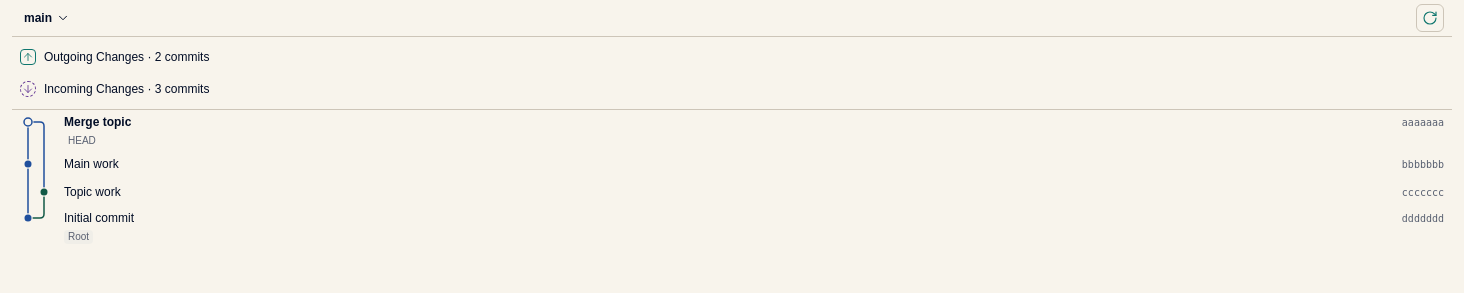
Test: diverged summaries independently open aggregate files and select pinned comparisons
Click the button "Incoming Changes · 3 commits" at (127, 89), box 12,73 -> 1452,105
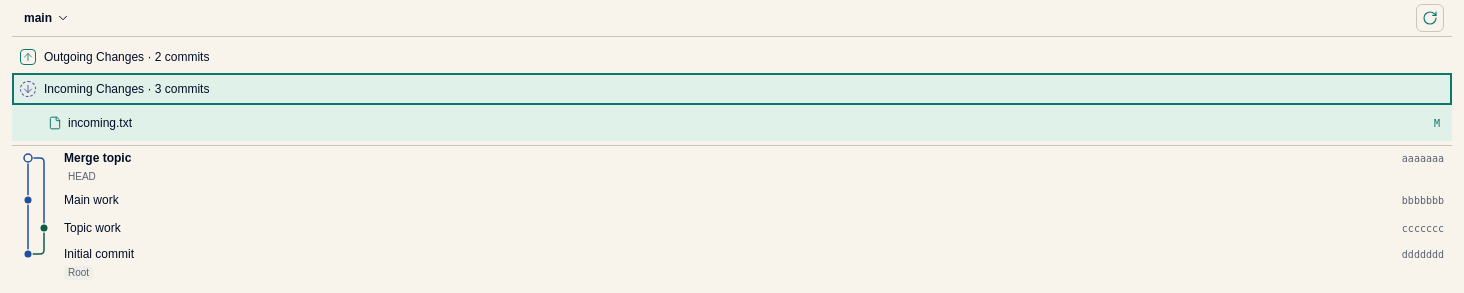
Result: the text "incoming.txt" is shown at 68,116 -> 132,130
Click the button "Outgoing Changes · 2 commits" at (127, 57), box 12,41 -> 1452,73
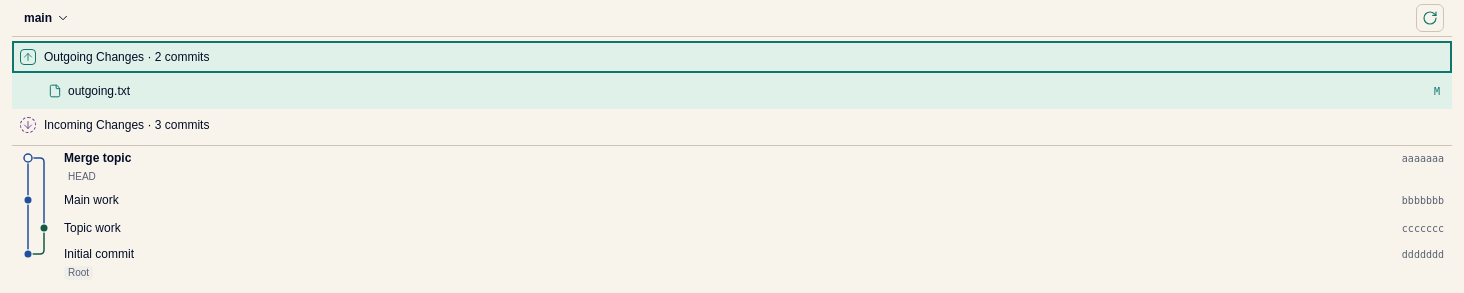
Result: the text "outgoing.txt" is shown at 68,84 -> 130,98
Result: the button "incoming.txt" is gone
